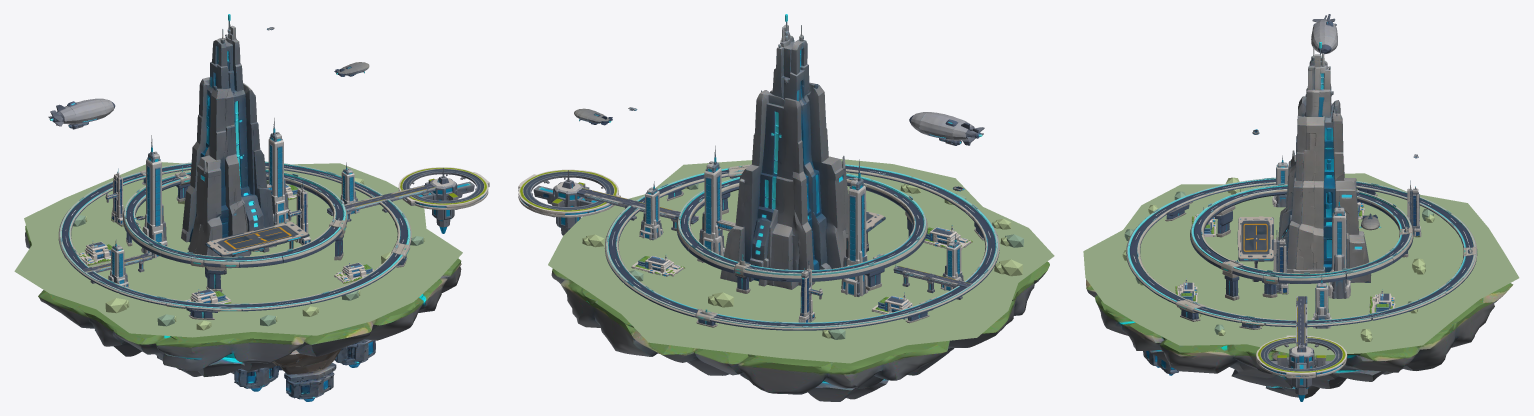
The picture shows the model from 3 angles, left to right: view 1: azimuth 30°, elevation 25°; view 2: azimuth 150°, elevation 25°; view 3: azimuth 270°, elevation 25°; orthographic projection. The views are drawn at different scales.
Parts seen in each view (by area): view 1: Main island | asymmetric faceted rock, Colony ship · Rodin · Rodin geometry, Rodin island rock shell · Rodin geometry, Ring road 1 · Rodin · Rodin geometry, Ring road 2 · Rodin · Rodin geometry, Engine · Rodin · Rodin geometry, East port · Rodin · Rodin geometry, Central arrival terrace · Rodin · Rodin geometry, Building 00 | complete editable module · Rodin · Rodin geome, Building 01 | complete editable module · Rodin · Rodin geome, Airship | editable vehicle · Rodin · Rodin geometry, Bridge east · Rodin geometry (+8 smaller); view 2: Main island | asymmetric faceted rock, Colony ship · Rodin · Rodin geometry, Rodin island rock shell · Rodin geometry, Ring road 1 · Rodin · Rodin geometry, Ring road 2 · Rodin · Rodin geometry, East port · Rodin · Rodin geometry, Building 00 | complete editable module · Rodin · Rodin geome, Building 01 | complete editable module · Rodin · Rodin geome, Airship | editable vehicle · Rodin · Rodin geometry, Bridge east · Rodin geometry, Building 03 | complete editable module · Rodin · Rodin geome, Bridge west · Rodin geometry (+5 smaller); view 3: Main island | asymmetric faceted rock, Colony ship · Rodin · Rodin geometry, Rodin island rock shell · Rodin geometry, Ring road 1 · Rodin · Rodin geometry, Ring road 2 · Rodin · Rodin geometry, East port · Rodin · Rodin geometry, Central arrival terrace · Rodin · Rodin geometry, Building 01 | complete editable module · Rodin · Rodin geome, Airship | editable vehicle · Rodin · Rodin geometry, Building 05 | complete editable module · Rodin · Rodin geome, Bridge east · Rodin geometry, Building 03 | complete editable module · Rodin · Rodin geome (+3 smaller).
Boxes of the visible parts, x1,y1,x2,y2 form: Main island | asymmetric faceted rock: (14, 162, 462, 337); Colony ship · Rodin · Rodin geometry: (181, 14, 276, 266); Rodin island rock shell · Rodin geometry: (25, 226, 461, 376); Ring road 1 · Rodin · Rodin geometry: (58, 161, 411, 319); Ring road 2 · Rodin · Rodin geometry: (123, 166, 347, 292); Engine · Rodin · Rodin geometry: (234, 339, 375, 401); East port · Rodin · Rodin geometry: (398, 167, 489, 233); Central arrival terrace · Rodin · Rodin geometry: (205, 222, 309, 256); Building 00 | complete editable module · Rodin · Rodin geome: (141, 135, 167, 258); Building 01 | complete editable module · Rodin · Rodin geome: (268, 118, 289, 224); Airship | editable vehicle · Rodin · Rodin geometry: (48, 98, 115, 129); Bridge east · Rodin geometry: (327, 180, 438, 222); Main island | asymmetric faceted rock: (548, 159, 1054, 363); Colony ship · Rodin · Rodin geometry: (720, 14, 848, 289); Rodin island rock shell · Rodin geometry: (551, 261, 1049, 401); Ring road 1 · Rodin · Rodin geometry: (604, 164, 999, 330); Ring road 2 · Rodin · Rodin geometry: (676, 174, 927, 293); East port · Rodin · Rodin geometry: (518, 169, 620, 235); Building 00 | complete editable module · Rodin · Rodin geome: (841, 159, 868, 296); Building 01 | complete editable module · Rodin · Rodin geome: (697, 145, 724, 262); Airship | editable vehicle · Rodin · Rodin geometry: (909, 112, 984, 145); Bridge east · Rodin geometry: (572, 186, 698, 231); Building 03 | complete editable module · Rodin · Rodin geome: (639, 181, 663, 240); Bridge west · Rodin geometry: (893, 265, 971, 299); Main island | asymmetric faceted rock: (1083, 173, 1519, 355); Colony ship · Rodin · Rodin geometry: (1278, 42, 1371, 282); Rodin island rock shell · Rodin geometry: (1086, 279, 1513, 398); Ring road 1 · Rodin · Rodin geometry: (1126, 177, 1477, 329); Ring road 2 · Rodin · Rodin geometry: (1190, 183, 1413, 300); East port · Rodin · Rodin geometry: (1256, 335, 1347, 401); Central arrival terrace · Rodin · Rodin geometry: (1237, 216, 1273, 261); Building 01 | complete editable module · Rodin · Rodin geome: (1328, 191, 1350, 298); Airship | editable vehicle · Rodin · Rodin geometry: (1311, 14, 1337, 54); Building 05 | complete editable module · Rodin · Rodin geome: (1273, 230, 1288, 294); Bridge east · Rodin geometry: (1296, 296, 1307, 346); Building 03 | complete editable module · Rodin · Rodin geome: (1312, 275, 1331, 328).
Size of the model in its own units: 37.24 by 27.64 by 32.38.
19 materials, 16 textured.
